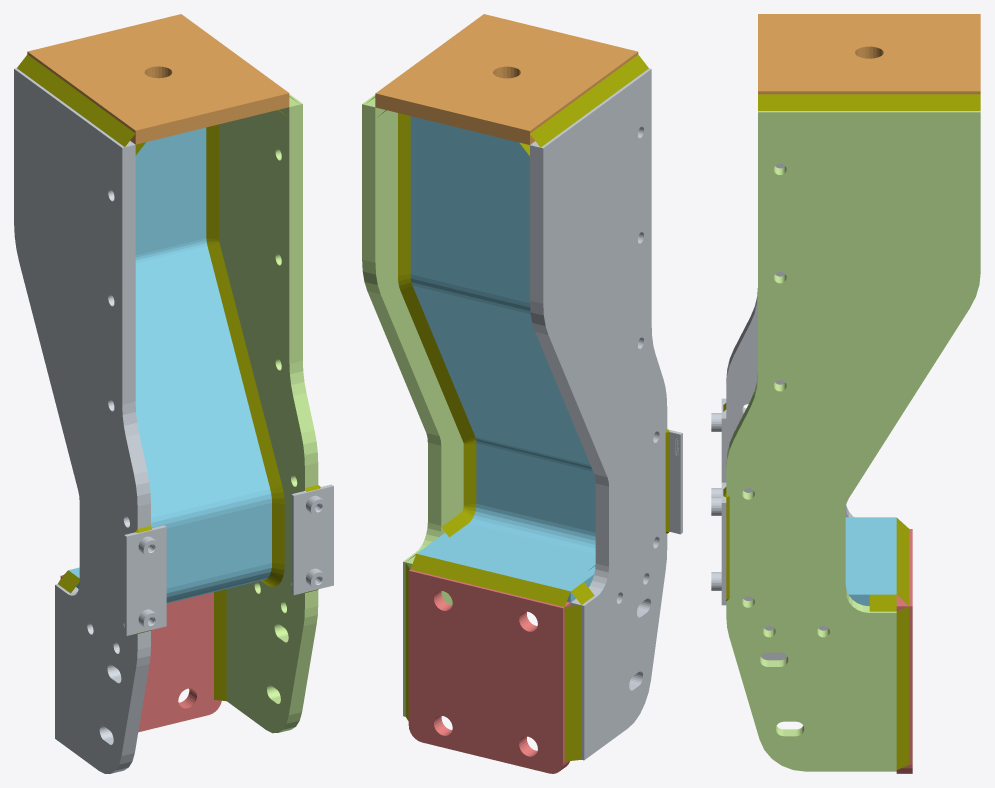
The picture shows the model from 3 angles, left to right: view 1: azimuth 30°, elevation 25°; view 2: azimuth 150°, elevation 25°; view 3: azimuth 270°, elevation 25°; orthographic projection. The views are drawn at different scales.
Parts seen in each view (by area): view 1: TC050-017-015-002.PRT Body:1 (×2), TC050-017-015-004.PRT Body:1, TC050-017-015-003.PRT Body:1, 10_26_0089.PRT Body:1 (×2), TC050-017-015-001.PRT Body:1, TC050-017-015 Body:9, TC050-017-015 Body:12, TC050-017-015 Body:1; view 2: TC050-017-015-002.PRT Body:1 (×2), TC050-017-015-004.PRT Body:1, TC050-017-015-001.PRT Body:1, TC050-017-015-003.PRT Body:1, TC050-017-015 Body:8, TC050-017-015 Body:3, TC050-017-015 Body:4, TC050-017-015 Body:12, 10_26_0089.PRT Body:1, TC050-017-015 Body:5; view 3: TC050-017-015-002.PRT Body:1 (×2), TC050-017-015-003.PRT Body:1, TC050-017-015-004.PRT Body:1, TC050-017-015 Body:13, TC050-017-015 Body:5, 10_26_0089.PRT Body:1 (×2), TC050-017-015-001.PRT Body:1, TC050-017-015 Body:4, TC050-017-015 Body:17.
Part boxes in pixels (left/top/right/bottom): TC050-017-015-002.PRT Body:1 (×2): left=14, top=68, right=318, bottom=773; TC050-017-015-004.PRT Body:1: left=68, top=127, right=271, bottom=603; TC050-017-015-003.PRT Body:1: left=27, top=14, right=289, bottom=144; 10_26_0089.PRT Body:1 (×2): left=124, top=484, right=333, bottom=635; TC050-017-015-001.PRT Body:1: left=60, top=575, right=221, bottom=732; TC050-017-015 Body:9: left=206, top=124, right=284, bottom=586; TC050-017-015 Body:12: left=17, top=54, right=135, bottom=146; TC050-017-015 Body:1: left=214, top=589, right=226, bottom=701; TC050-017-015-002.PRT Body:1 (×2): left=362, top=68, right=667, bottom=760; TC050-017-015-004.PRT Body:1: left=410, top=116, right=595, bottom=602; TC050-017-015-001.PRT Body:1: left=408, top=569, right=570, bottom=773; TC050-017-015-003.PRT Body:1: left=375, top=14, right=638, bottom=144; TC050-017-015 Body:8: left=398, top=113, right=476, bottom=537; TC050-017-015 Body:3: left=564, top=605, right=581, bottom=761; TC050-017-015 Body:4: left=410, top=554, right=570, bottom=606; TC050-017-015 Body:12: left=530, top=54, right=648, bottom=147; 10_26_0089.PRT Body:1: left=668, top=429, right=682, bottom=534; TC050-017-015 Body:5: left=405, top=563, right=409, bottom=720; TC050-017-015-002.PRT Body:1 (×2): left=726, top=111, right=980, bottom=771; TC050-017-015-003.PRT Body:1: left=758, top=14, right=980, bottom=94; TC050-017-015-004.PRT Body:1: left=845, top=517, right=896, bottom=606; TC050-017-015 Body:13: left=758, top=94, right=980, bottom=110; TC050-017-015 Body:5: left=896, top=606, right=909, bottom=769; 10_26_0089.PRT Body:1 (×2): left=711, top=398, right=726, bottom=605; TC050-017-015-001.PRT Body:1: left=896, top=529, right=912, bottom=773; TC050-017-015 Body:4: left=896, top=518, right=909, bottom=605; TC050-017-015 Body:17: left=869, top=594, right=896, bottom=611.
Size of the model in its own units: 155 by 477 by 169.
